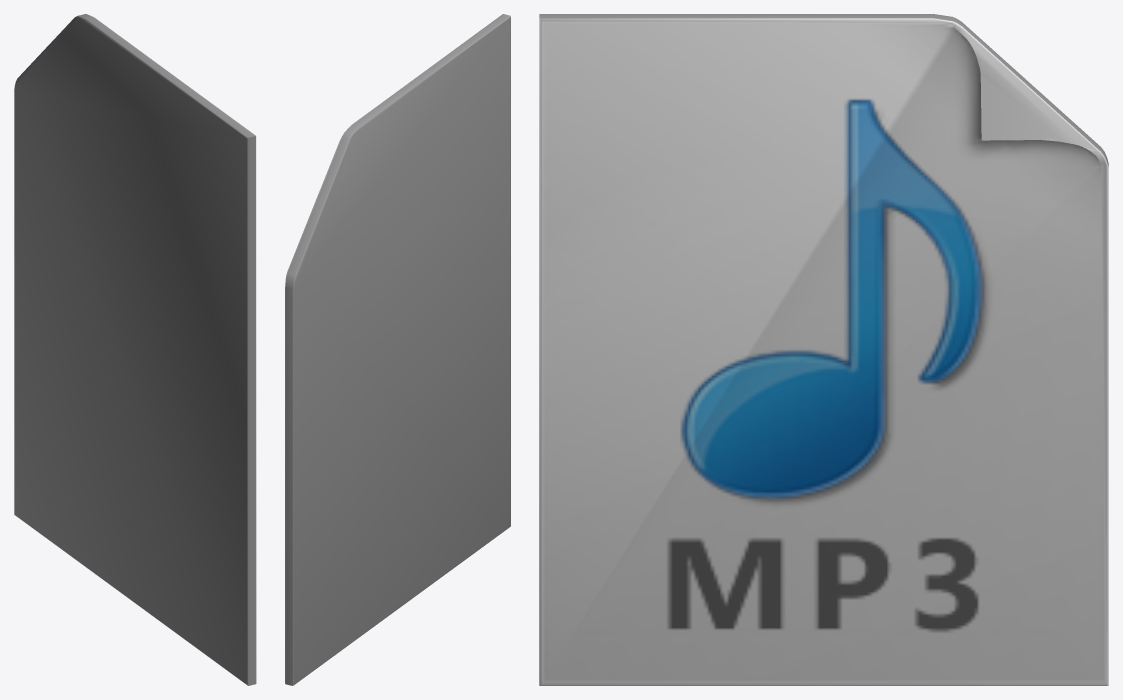
The model's file is mp3_file_icon.glb.
3 views of the same model, side by side, from view 1: azimuth 30°, elevation 25°; view 2: azimuth 150°, elevation 25°; view 3: azimuth 270°, elevation 25° (orthographic). The views are drawn at different scales.
Parts seen in each view (by area): view 1: File Base Old_0; view 2: File Base Old_0; view 3: File Base Old_0.
Boxes of the visible parts, bbox=[...] form: File Base Old_0: bbox=[14, 14, 256, 685]; File Base Old_0: bbox=[285, 14, 510, 685]; File Base Old_0: bbox=[539, 14, 1108, 685].
Bounding box in the file's own units: 0.0499 × 1.72 × 1.33.
Materials: 4 (1 with a texture image).
